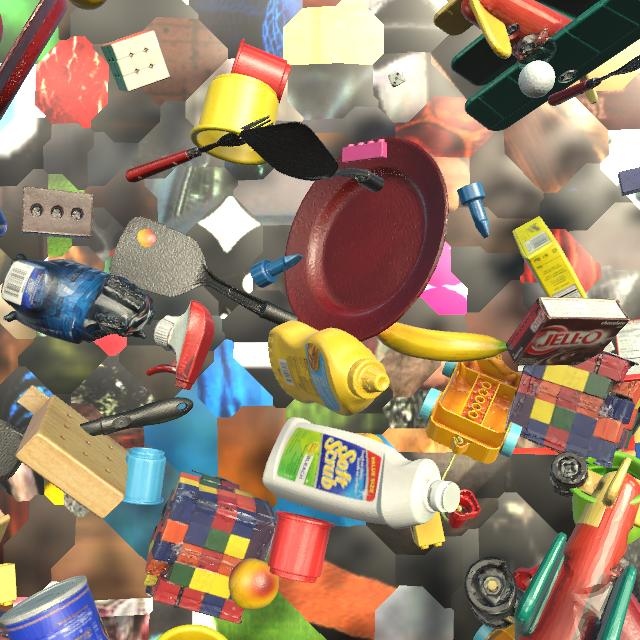ycb_002_master_chef_can: (1, 575, 110, 640)
ycb_004_sugar_box: (513, 216, 615, 353)
ycb_006_mustard_bottle: (268, 321, 390, 416)
ycb_008_pudding_box: (506, 297, 630, 366)
ycb_009_gelatin_box: (615, 319, 640, 382)
ycb_011_banana: (376, 322, 508, 362)
ycb_013_apple: (0, 14, 3, 43)
ycb_015_peach: (228, 558, 279, 610), (69, 0, 107, 10), (137, 229, 157, 247), (355, 433, 384, 444)
